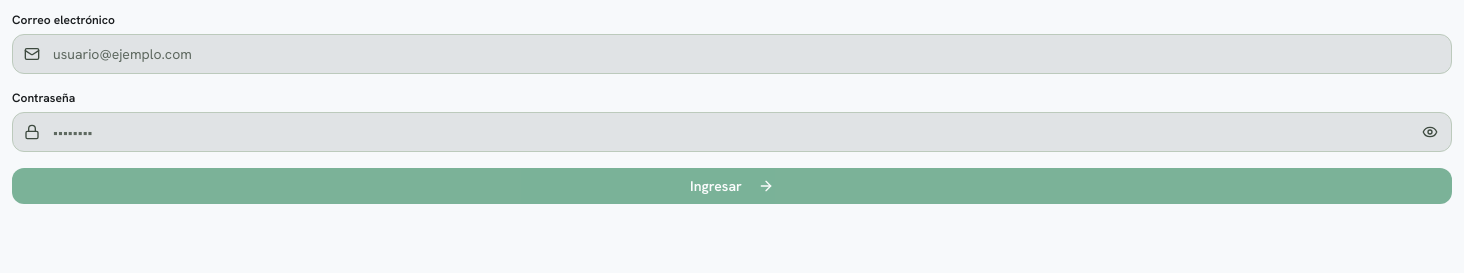
Test: LoginForm — error display › signIn con error: 'Configuration' → muestra mensaje de configuracion
Step 1. Type "user@example.com" into the field labelled "Correo electrónico" → (732, 54), box [12,34,1452,74]
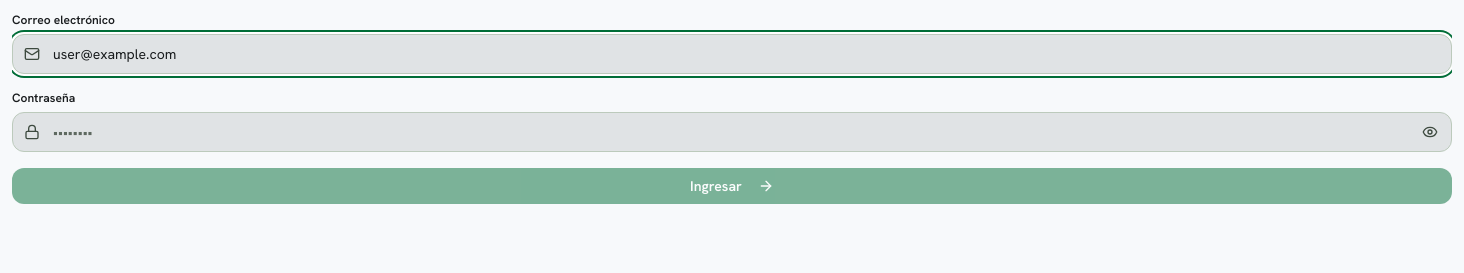
Step 2. Type "secret" into the password field labelled "Contraseña" → (732, 132), box [12,112,1452,152]
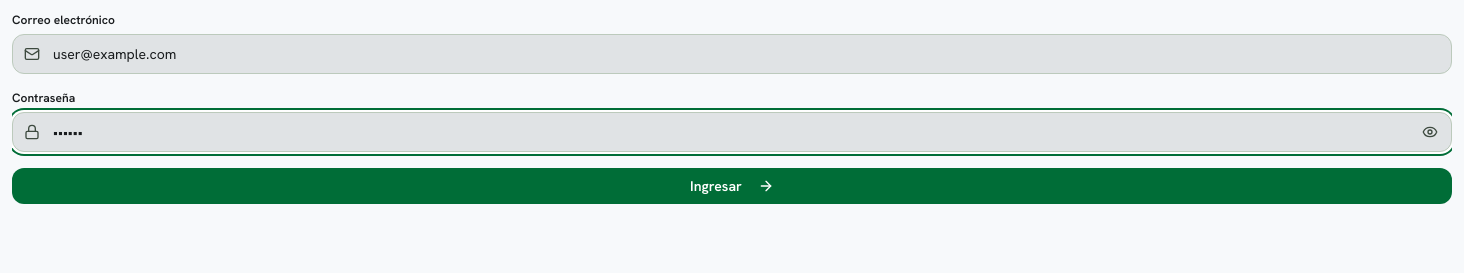
Step 3. Click the button "Ingresar" → (732, 186), box [12,168,1452,204]
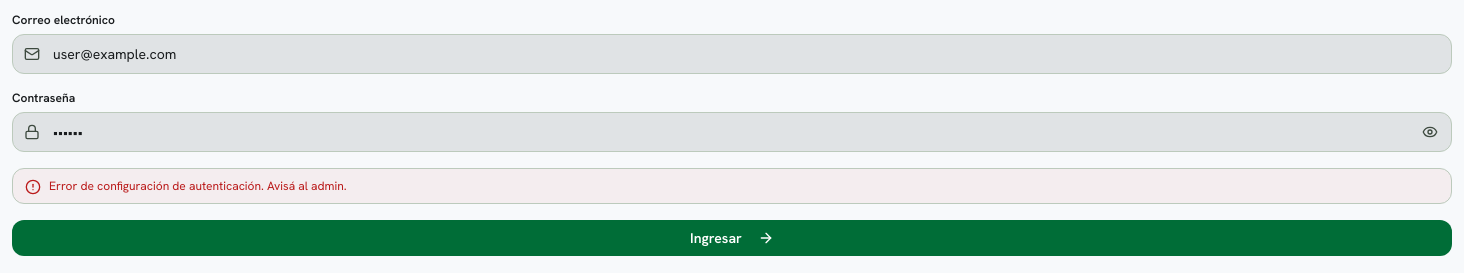
Expected: the message shows "configuración", [49,178,347,194]
